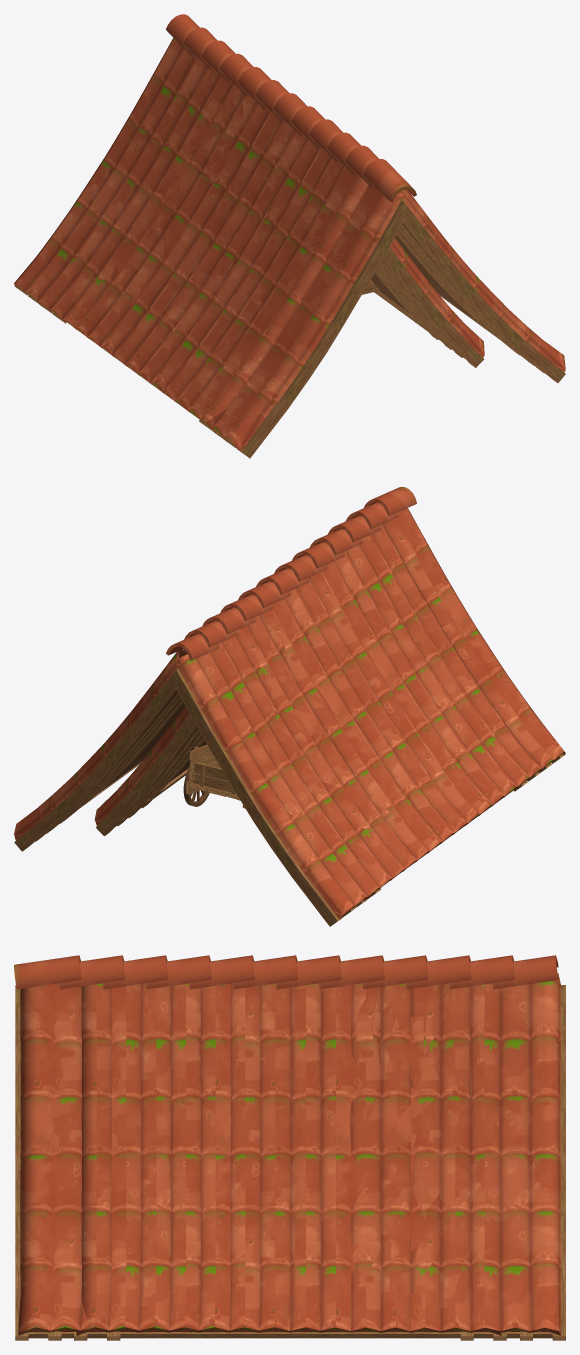
File: village.glb
The picture shows the model from 3 angles, top to bottom: view 1: azimuth 30°, elevation 25°; view 2: azimuth 150°, elevation 25°; view 3: azimuth 270°, elevation 25°; orthographic projection. The views are drawn at different scales.
Visible parts, largest first — view 1: Roof_RoundTiles_6x8, Roof_RoundTiles_6x6, Roof_RoundTiles_4x6, Roof_RoundTiles_4x4; view 2: Roof_RoundTiles_6x8, Roof_RoundTiles_6x6, Roof_RoundTiles_4x6, Prop_Wagon, Roof_RoundTiles_4x4; view 3: Roof_RoundTiles_6x8, Roof_RoundTiles_6x6.
Part boxes in pixels (x1,y1,x2,y2): Roof_RoundTiles_6x8: (14,14,565,458); Roof_RoundTiles_6x6: (39,27,533,438); Roof_RoundTiles_4x6: (373,238,484,367); Roof_RoundTiles_4x4: (371,265,451,349); Roof_RoundTiles_6x8: (14,487,565,926); Roof_RoundTiles_6x6: (47,506,541,906); Roof_RoundTiles_4x6: (94,706,206,836); Prop_Wagon: (183,744,245,808); Roof_RoundTiles_4x4: (128,733,205,817); Roof_RoundTiles_6x8: (14,955,565,1340); Roof_RoundTiles_6x6: (74,955,514,1340).
Bounding box in the file's own units: 8.25 × 7.01 × 9.68.
Materials: 9 (8 with a texture image).
